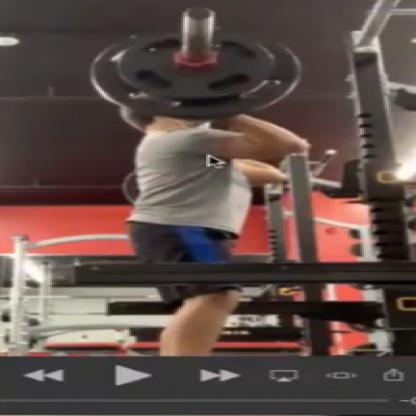Barbell: (74, 18, 311, 124)
